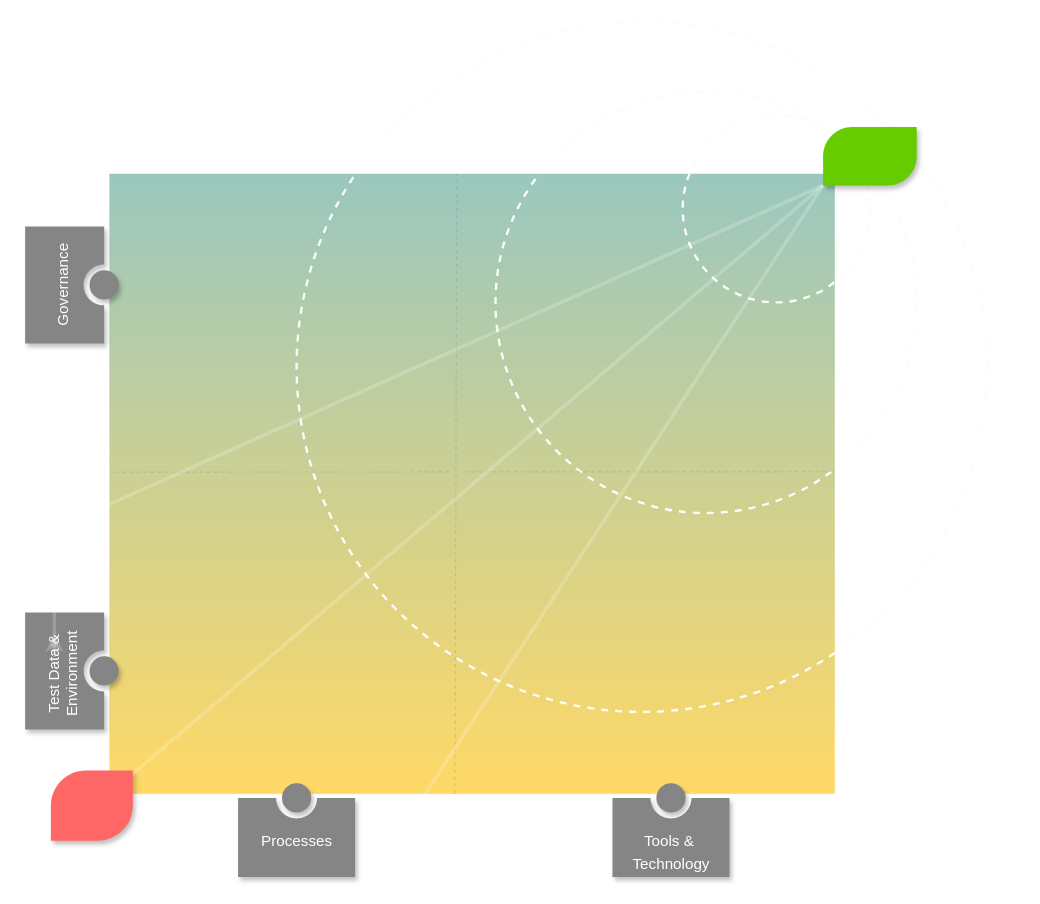
The diagram is 1040 pixels wide and 904 high, and some of its shapes have lost their labels. The centre of each missing label's shape, as x and y in pixels:
Current State: the point at 92,806
Future State: the point at 870,157
